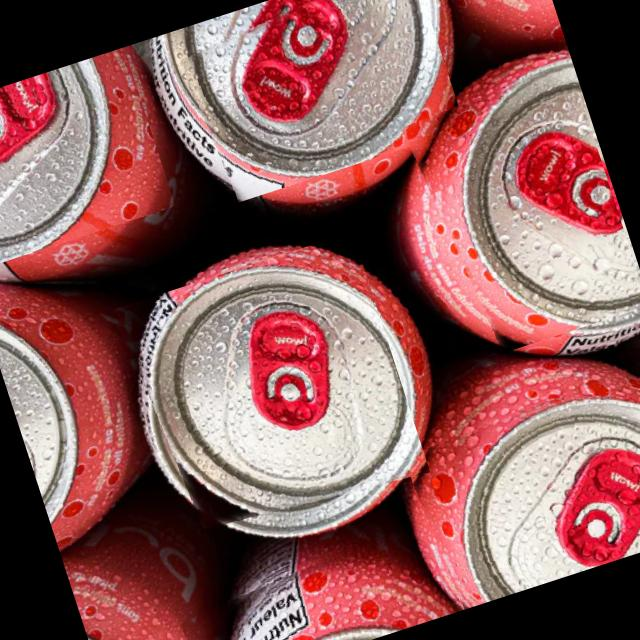Cans: (112, 232, 430, 551), (397, 62, 640, 361), (170, 0, 465, 206), (397, 365, 640, 613), (0, 54, 175, 273), (172, 536, 406, 640)
